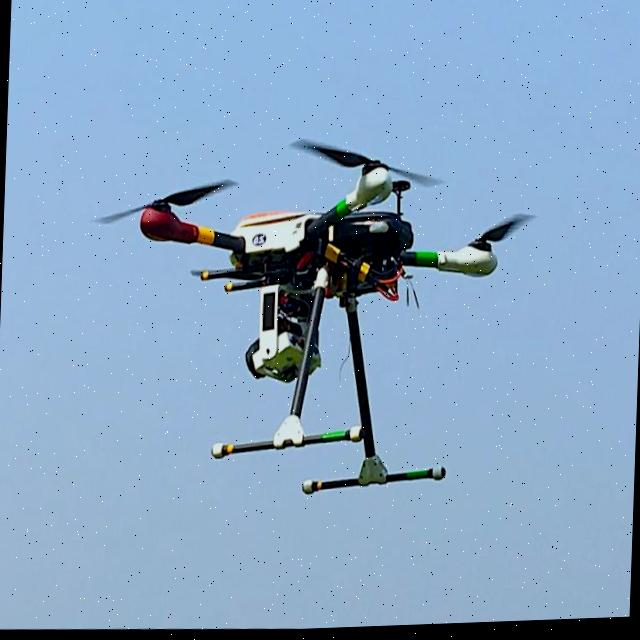drone: (92, 139, 554, 357)
